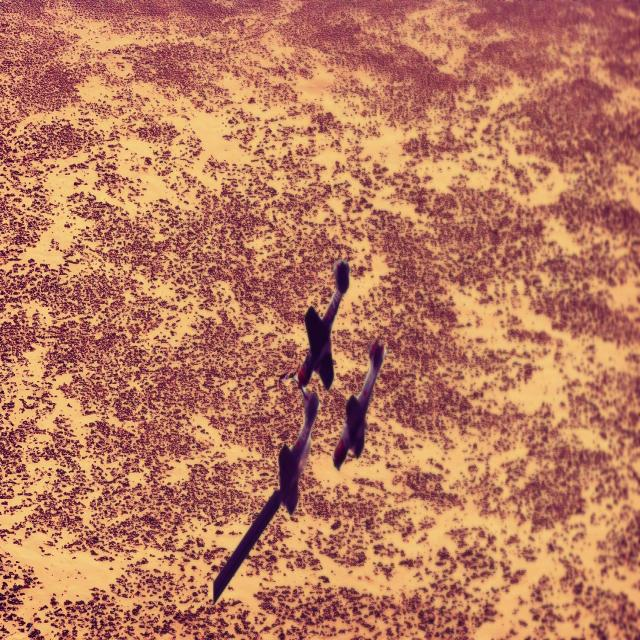airplane: (213, 390, 320, 602), (332, 336, 388, 474), (297, 256, 352, 390)
